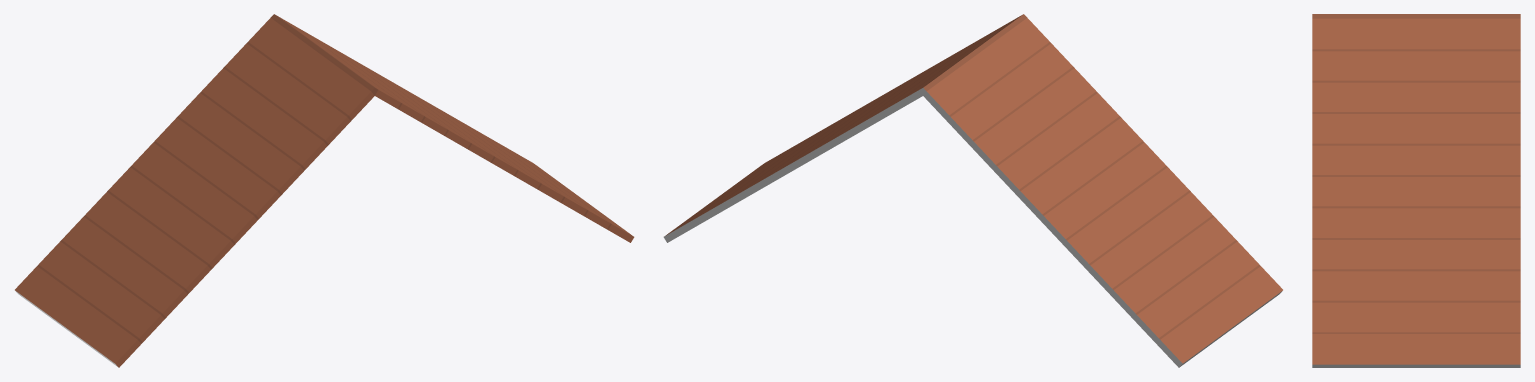
The model's file is Roof2_C5_03.fbx.
3 renders of one model, left to right at view 1: azimuth 30°, elevation 25°; view 2: azimuth 150°, elevation 25°; view 3: azimuth 270°, elevation 25°, orthographic. The views are drawn at different scales.
Parts seen in each view (by area): view 1: Roof2_C5_03; view 2: Roof2_C5_03; view 3: Roof2_C5_03.
Part boxes in pixels (box(x1,y1,x2,y2)): Roof2_C5_03: box(15, 14, 634, 367); Roof2_C5_03: box(663, 14, 1282, 367); Roof2_C5_03: box(1312, 14, 1520, 367).
Bounding box in the file's own units: 833 × 334 × 280.
